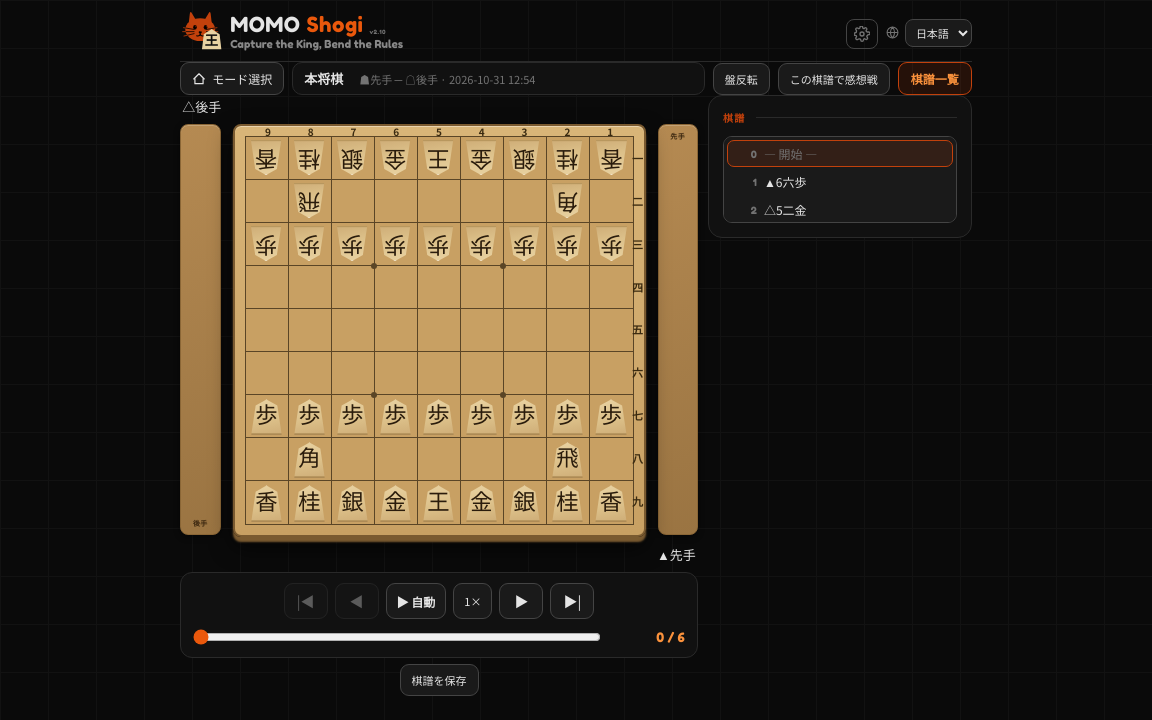
Test: S08 記憶している 1 局 › 一覧の先頭に出て、未保存であることが分かる
The width and height of the screenshot is (1152, 720).
Click the button "棋譜一覧": (935, 79) x1=898 y1=62 x2=972 y2=95
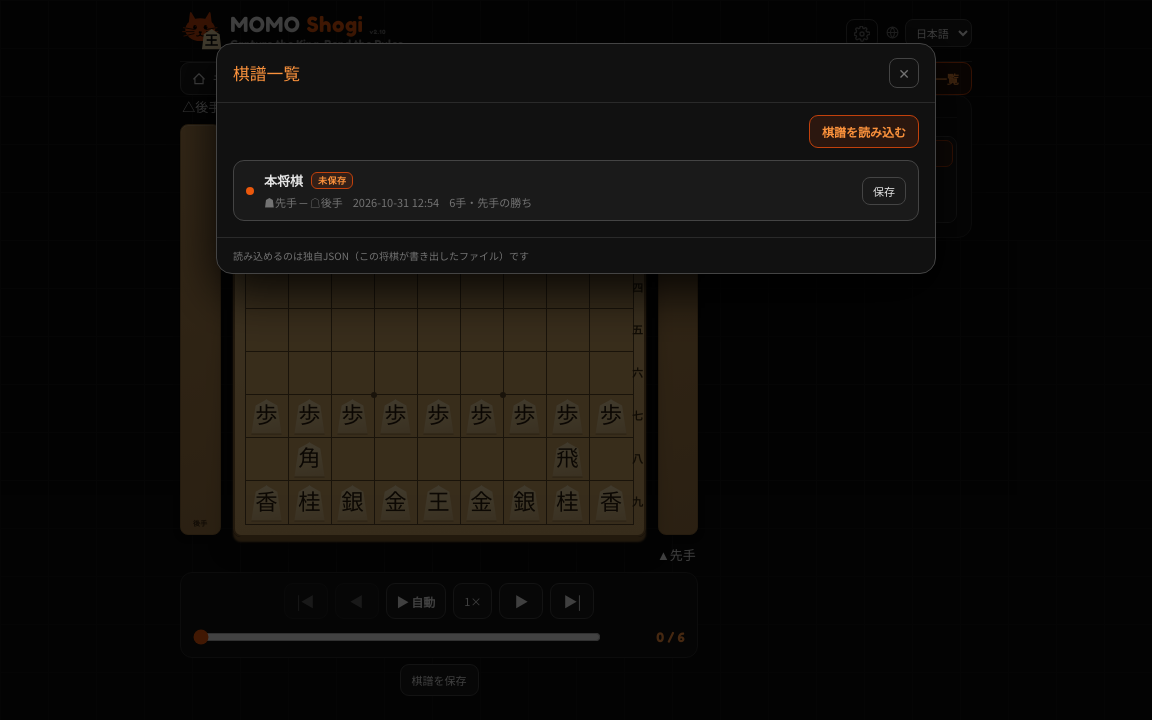
expect the text "未保存" is shown: met, box x1=311 y1=172 x2=353 y2=189
